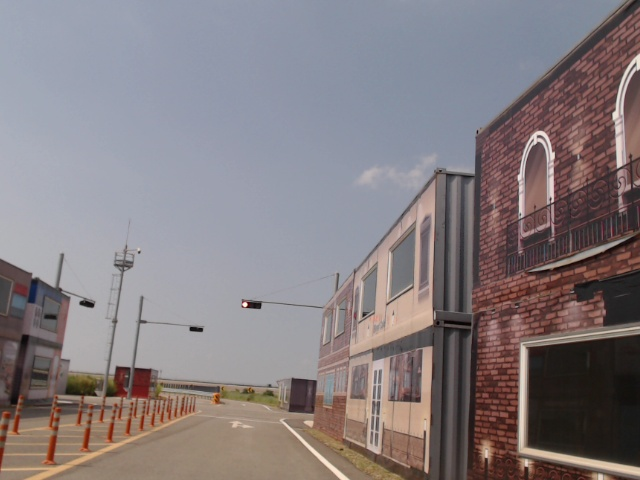red_3: (241, 301, 262, 310)
